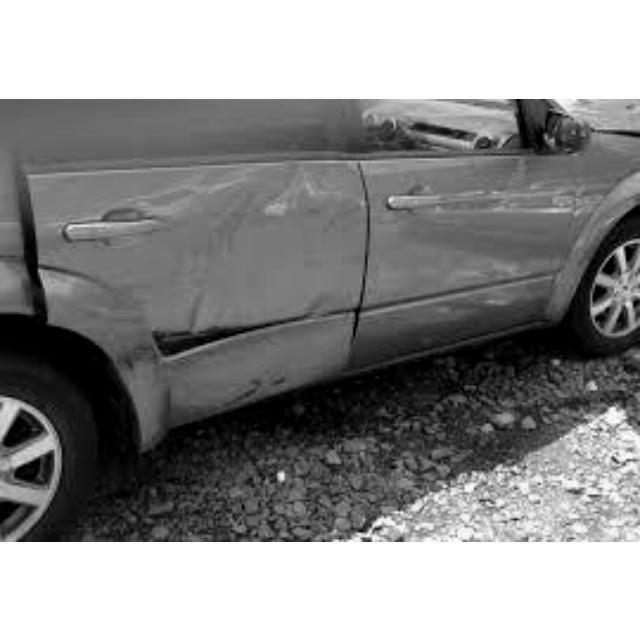boot-dent: (24, 139, 351, 402)
